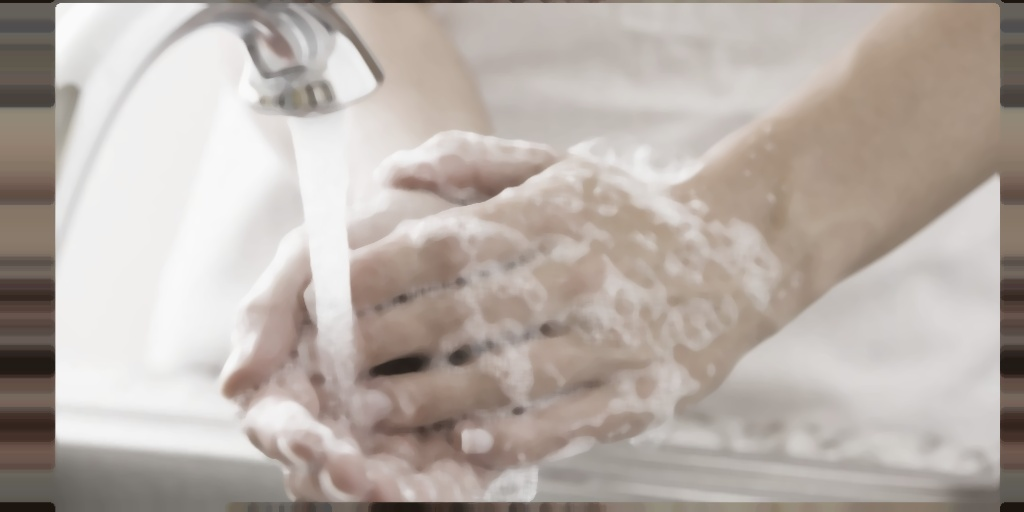washing hand: (192, 31, 826, 484)
